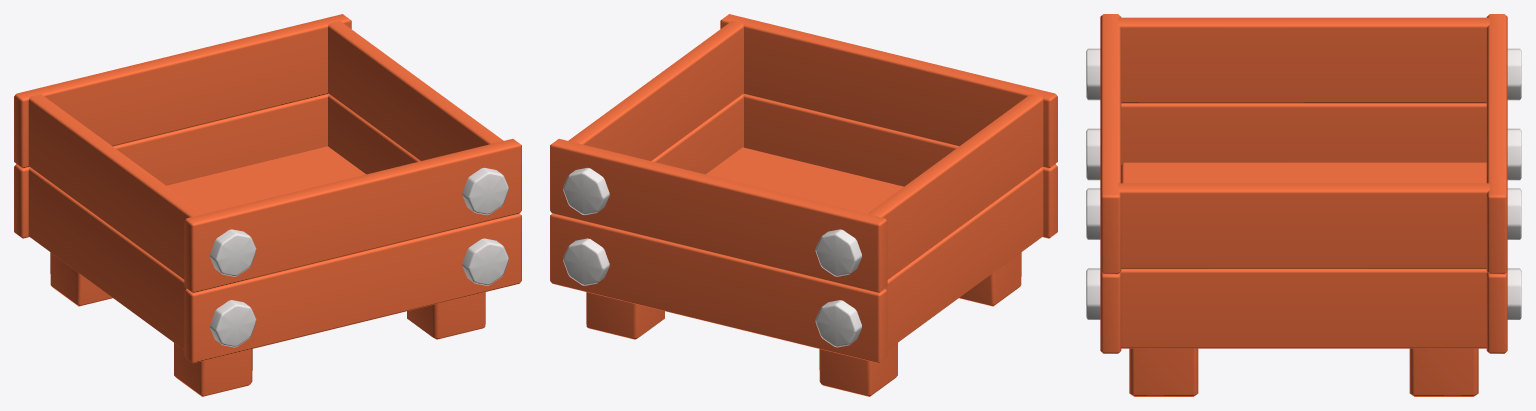
Rendered from Store_16_Box_1.glb.
3 renders of one model, left to right at view 1: azimuth 30°, elevation 25°; view 2: azimuth 150°, elevation 25°; view 3: azimuth 270°, elevation 25°, orthographic. The views are drawn at different scales.
Parts seen in each view (by area): view 1: Store_16_Box_1; view 2: Store_16_Box_1; view 3: Store_16_Box_1.
Part boxes in pixels (x1,y1,x2,y2): Store_16_Box_1: [14, 14, 521, 396]; Store_16_Box_1: [550, 14, 1057, 396]; Store_16_Box_1: [1086, 14, 1521, 396].
Bounding box in the file's own units: 0.5786 × 0.3165 × 0.5812.
1 material, 1 textured.
